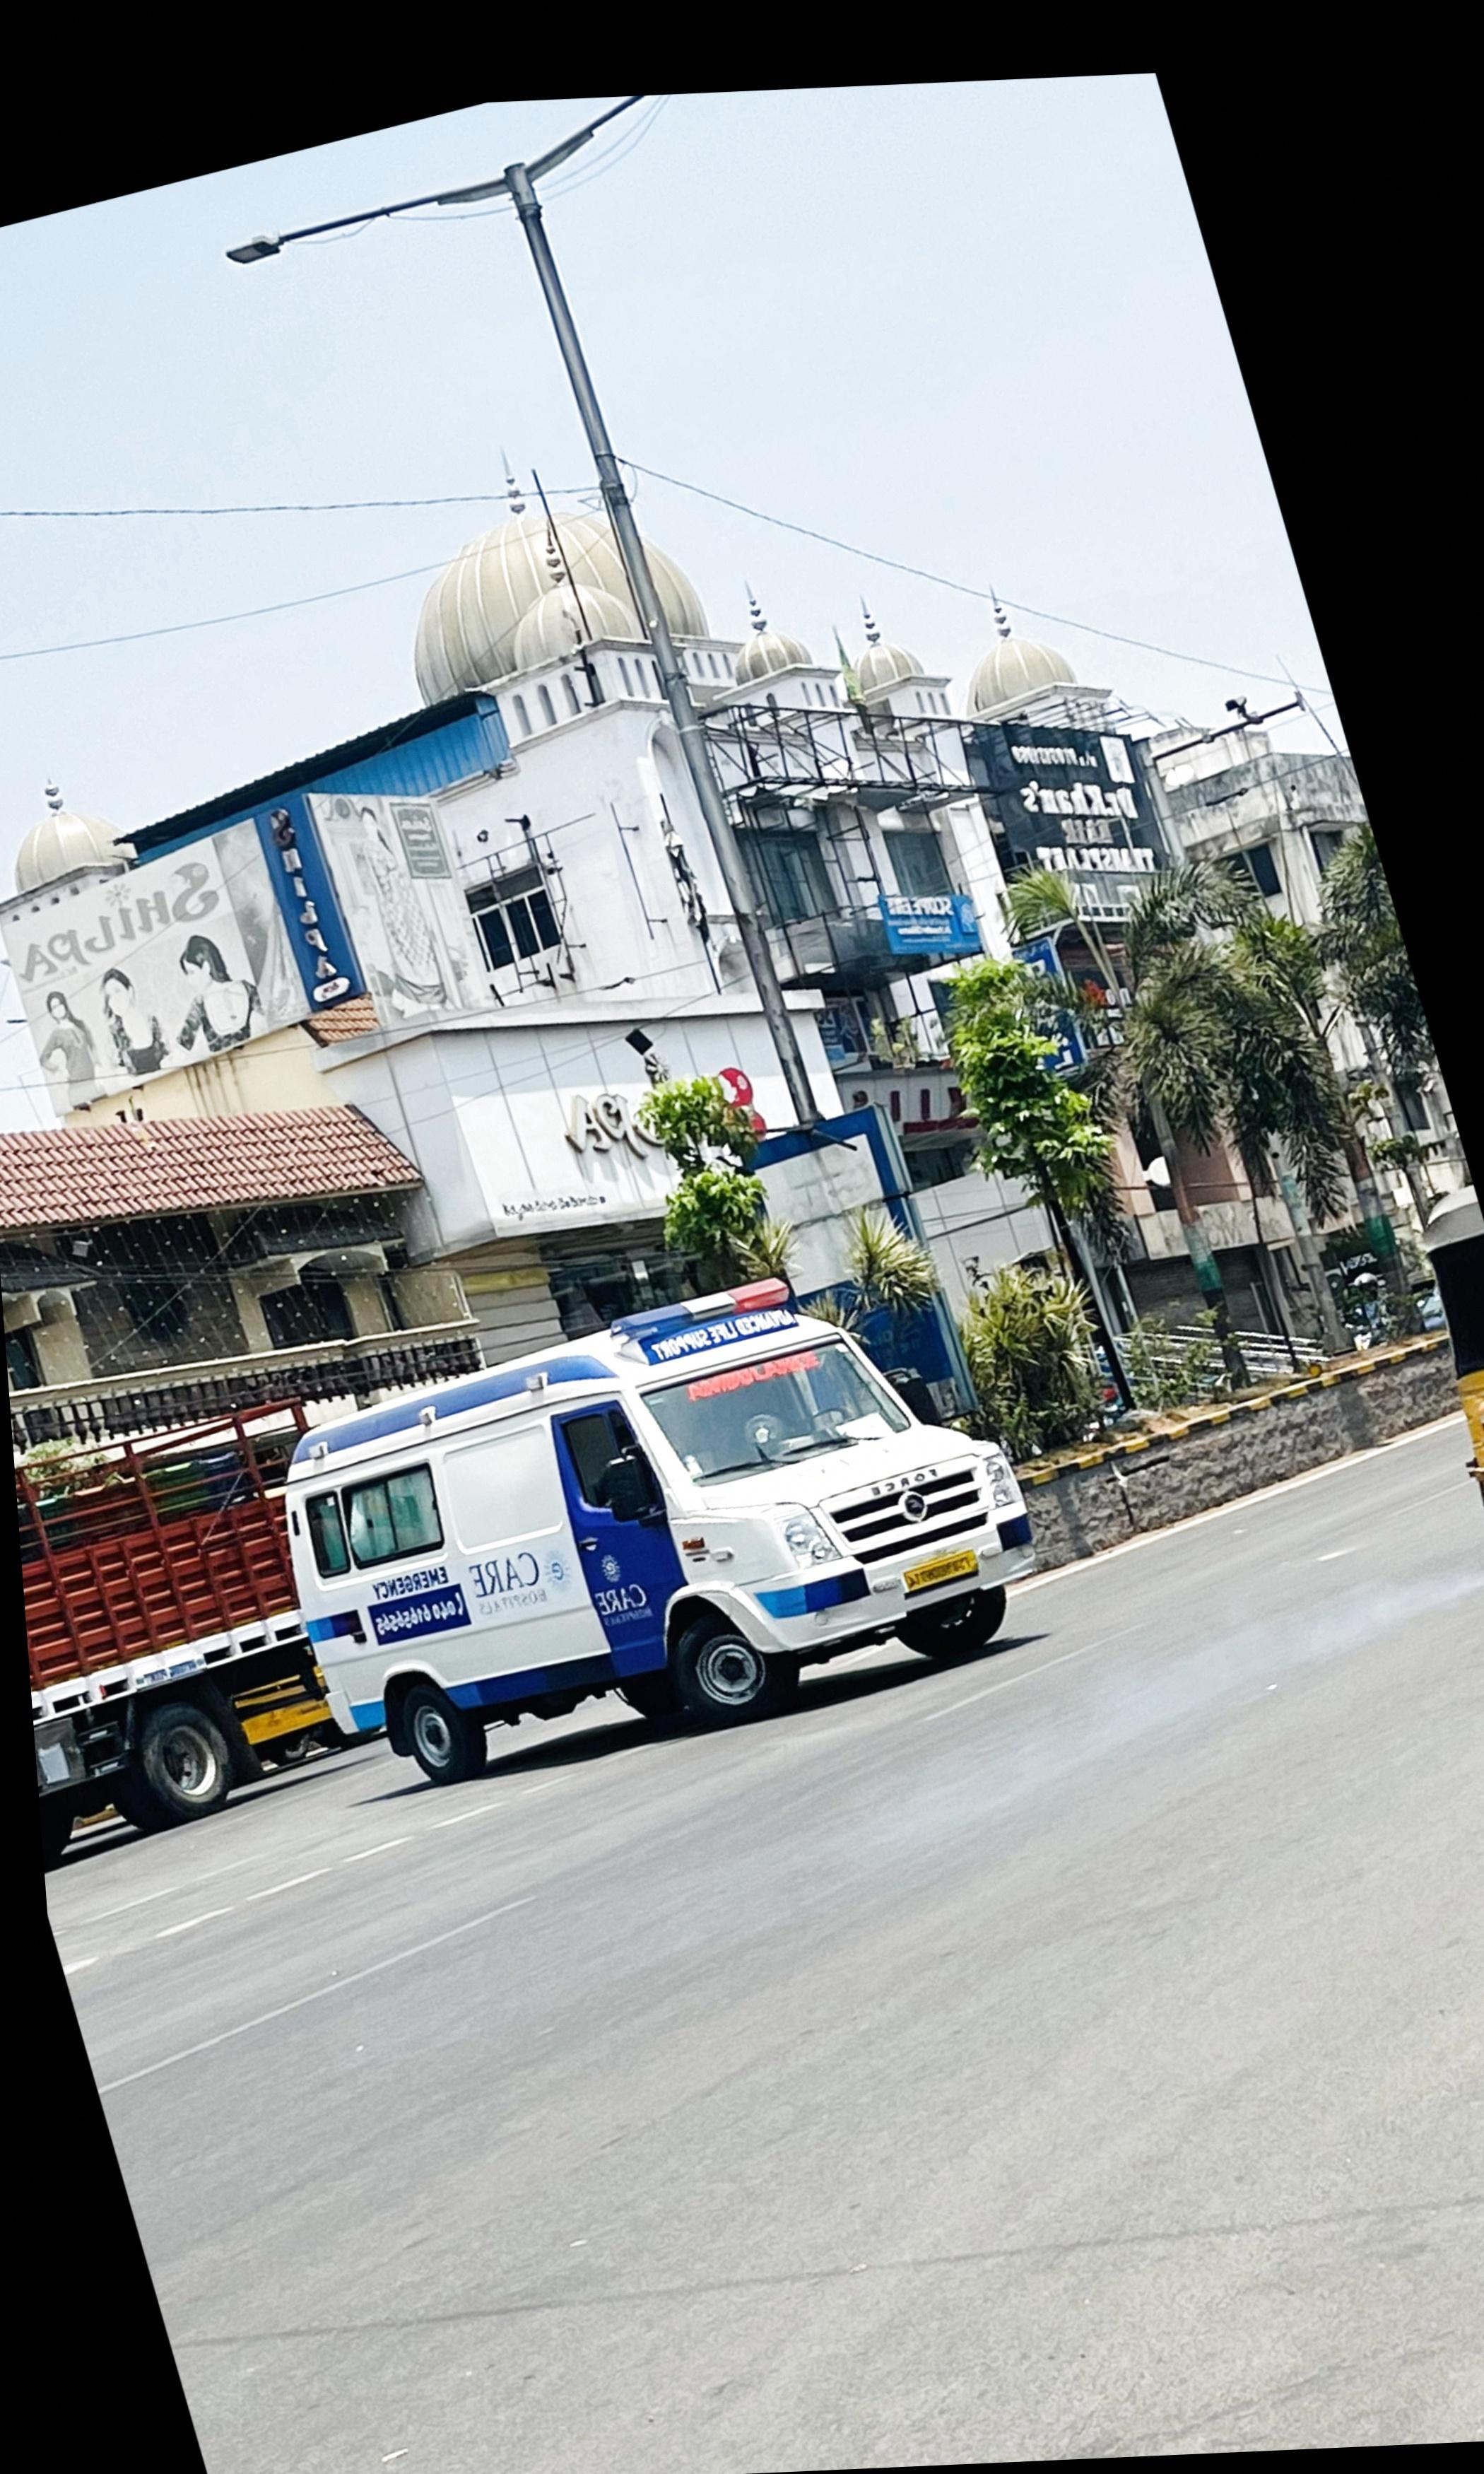ambulance: (274, 1343, 1035, 1787)
